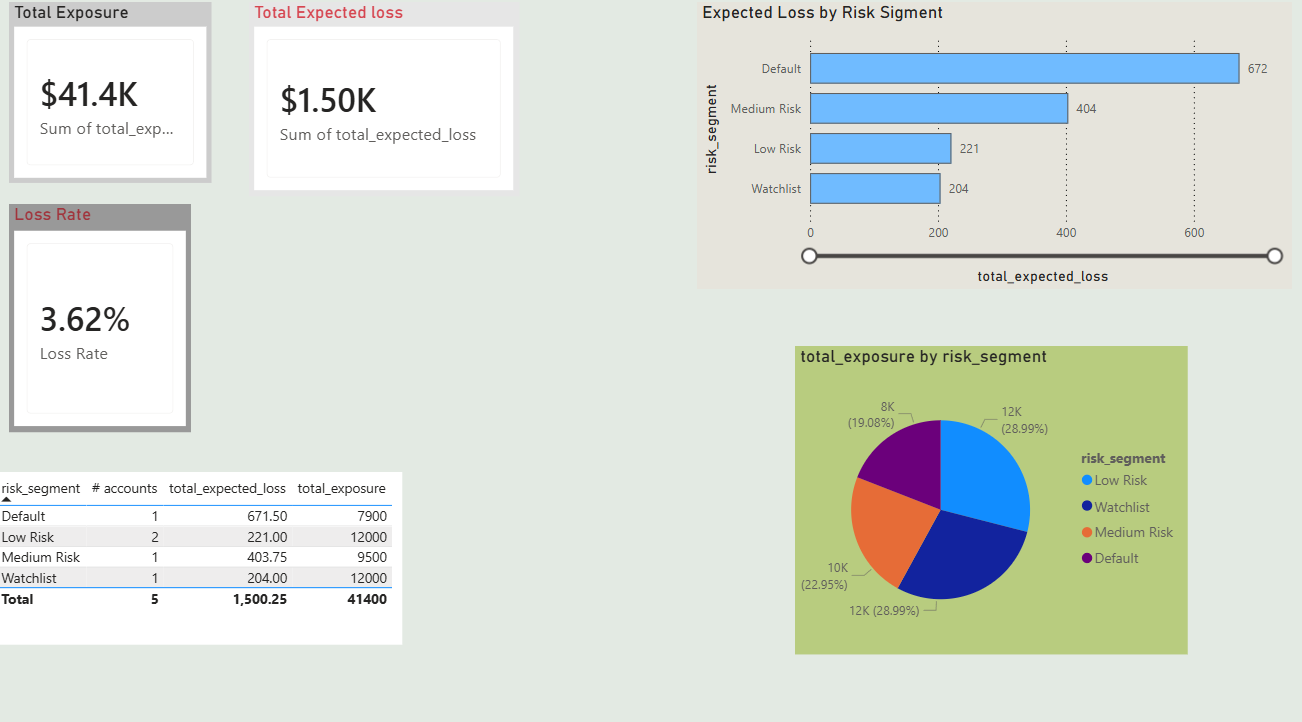

The dashboard page shown, as its layout file describes it:
{"tool":"powerbi","page":{"name":"Page 1","canvas":[1280,720],"ordinal":0},"visuals":[{"type":"barChart","title":"Expected Loss by Risk Sigment","fields":{"Category":["risk_segment_mart.risk_segment"],"Y":["Sum(risk_segment_mart.total_expected_loss)"]},"box":[687.7,10.7,577.8,279.1],"z":0},{"type":"pieChart","fields":{"Category":["risk_segment_mart.risk_segment"],"Y":["Sum(risk_segment_mart.total_exposure)"]},"box":[783,345.3,382.2,299.6],"z":1000},{"type":"tableEx","fields":{"Values":["risk_segment_mart.risk_segment","Sum(risk_segment_mart.accounts)","Sum(risk_segment_mart.total_expected_loss)","Sum(risk_segment_mart.total_exposure)"]},"box":[0,467.8,400.7,168.3],"z":2000},{"type":"cardVisual","title":"Total Expected loss","fields":{"Data":["Sum(risk_segment_mart.total_expected_loss)"]},"box":[251.9,10.7,262.6,188.7],"z":3000},{"type":"cardVisual","title":"Total Exposure","fields":{"Data":["Sum(risk_segment_mart.total_exposure)"]},"box":[18.5,10.7,197.4,176],"z":4000},{"type":"cardVisual","title":"Loss Rate","fields":{"Data":["risk_segment_mart.Loss Rate"]},"box":[18.5,207.2,177,221.8],"z":5000}]}

Visuals, with their boxes in screenshot pixels (x1, y1, x2, y2), scaled from the page's 1280x720 canvas onto the 1302x722 screenshot:
"Expected Loss by Risk Sigment" barChart: {"x1": 700, "y1": 11, "x2": 1287, "y2": 291}
pieChart - risk_segment_mart.risk_segment x Sum(risk_segment_mart.total_exposure): {"x1": 796, "y1": 346, "x2": 1185, "y2": 647}
tableEx - risk_segment_mart.risk_segment x Sum(risk_segment_mart.accounts): {"x1": 0, "y1": 469, "x2": 408, "y2": 638}
"Total Expected loss" cardVisual: {"x1": 256, "y1": 11, "x2": 523, "y2": 200}
"Total Exposure" cardVisual: {"x1": 19, "y1": 11, "x2": 220, "y2": 187}
"Loss Rate" cardVisual: {"x1": 19, "y1": 208, "x2": 199, "y2": 430}
